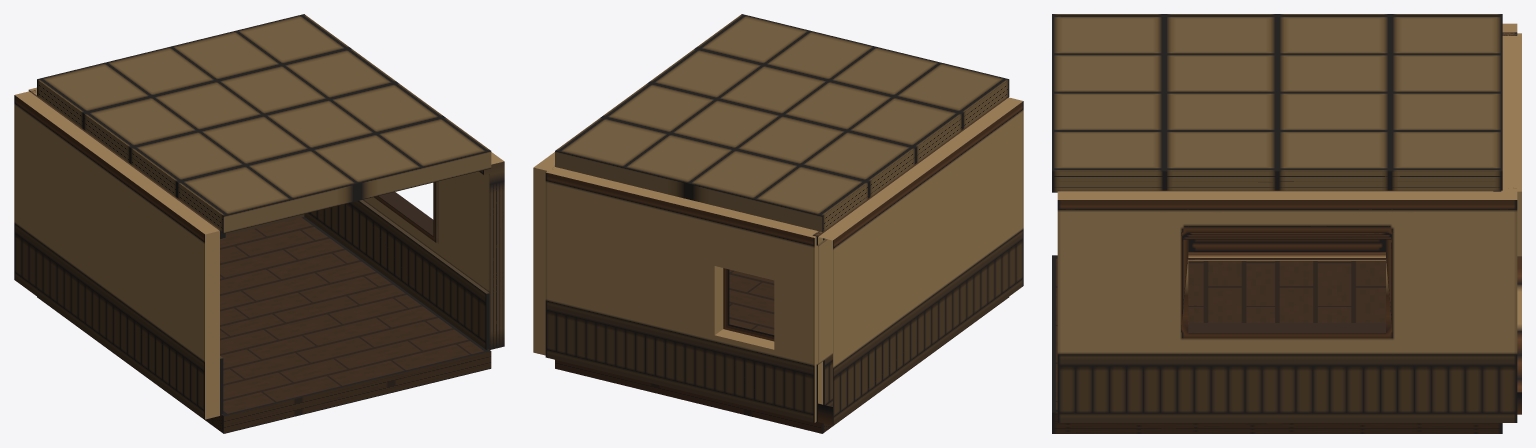
The model's file is Room2.fbx.
3 views of the same model, side by side, from view 1: azimuth 30°, elevation 25°; view 2: azimuth 150°, elevation 25°; view 3: azimuth 270°, elevation 25° (orthographic). The views are drawn at different scales.
Visible parts, largest first — view 1: Ceiling, LeftWall, Floor, RightWall; view 2: Ceiling, FrontWall, LeftWall, Floor, RightWall, Door; view 3: RightWall, Ceiling, Floor, FrontWall.
Part boxes in pixels (x1,y1,x2,y2): Ceiling: (37, 14, 491, 233); LeftWall: (14, 90, 225, 419); Floor: (37, 217, 491, 433); RightWall: (304, 152, 504, 349); Ceiling: (555, 14, 1009, 231); FrontWall: (545, 166, 825, 422); LeftWall: (812, 97, 1023, 425); Floor: (555, 269, 1008, 433); RightWall: (533, 152, 554, 355); Door: (723, 268, 774, 341); RightWall: (1057, 190, 1517, 422); Ceiling: (1052, 14, 1502, 192); Floor: (1052, 255, 1502, 433); FrontWall: (1493, 33, 1521, 414).
Bounding box in the file's own units: 57.39 × 39.92 × 64.7.
